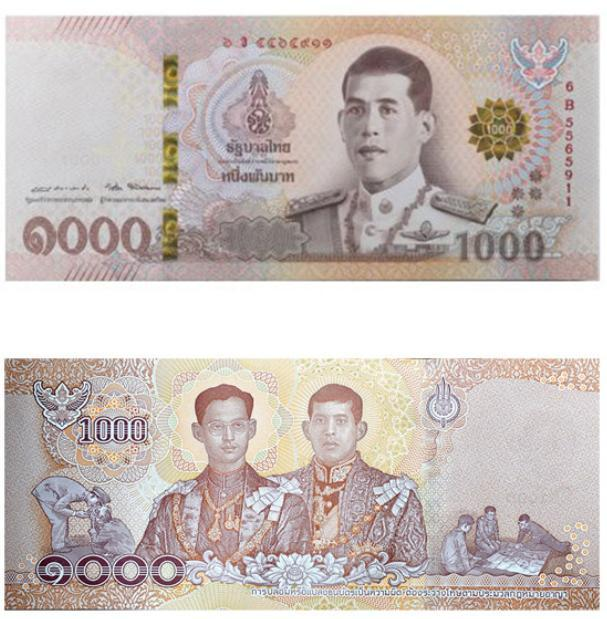1000BahtTai: (6, 358, 600, 613)
